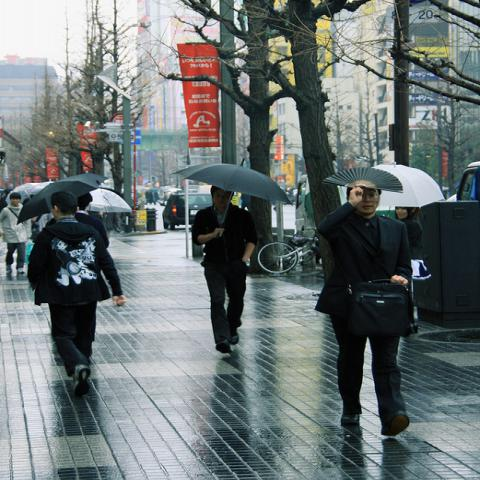car: (164, 193, 214, 230), (456, 161, 479, 201)
